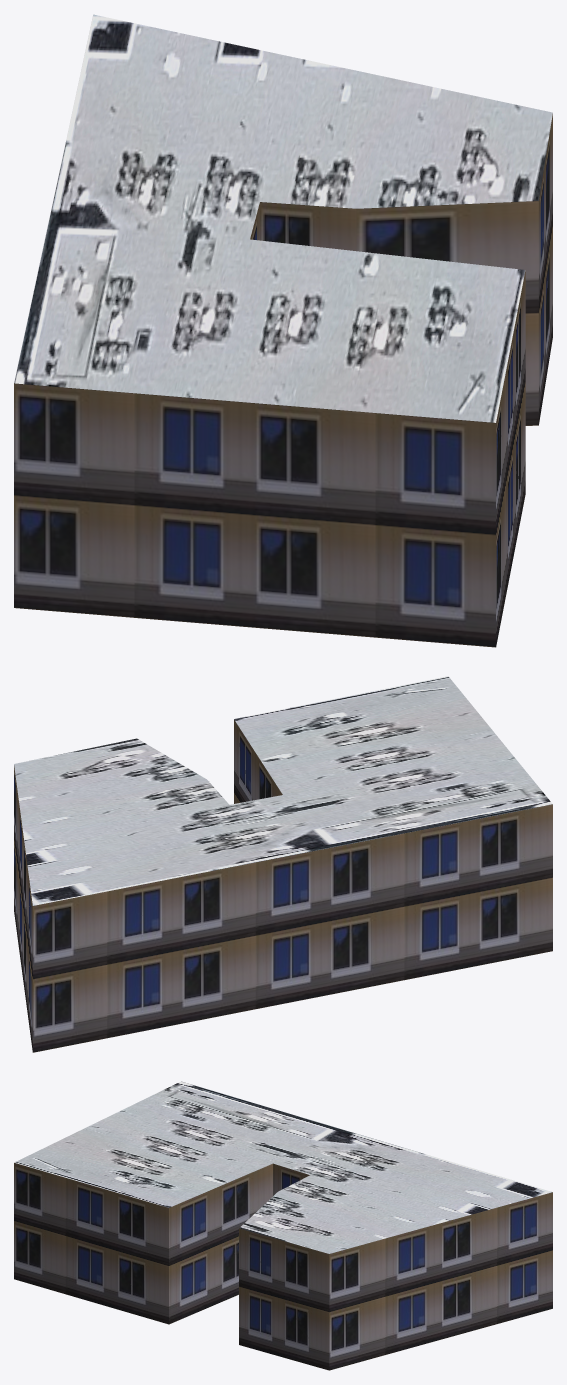
File: ResTex__5245.fbx
The picture shows the model from 3 angles, top to bottom: view 1: azimuth 30°, elevation 25°; view 2: azimuth 150°, elevation 25°; view 3: azimuth 270°, elevation 25°; orthographic projection. The views are drawn at different scales.
Visible parts, largest first — view 1: CityEngineMaterial_m, CityEngineMaterial_5_m; view 2: CityEngineMaterial_5_m, CityEngineMaterial_m; view 3: CityEngineMaterial_5_m, CityEngineMaterial_m.
Boxes of the visible parts, box(x1,y1,x2,y2) form: CityEngineMaterial_m: box(14, 14, 552, 422); CityEngineMaterial_5_m: box(14, 114, 552, 647); CityEngineMaterial_5_m: box(14, 720, 552, 1052); CityEngineMaterial_m: box(14, 676, 552, 905); CityEngineMaterial_5_m: box(14, 1163, 552, 1370); CityEngineMaterial_m: box(14, 1081, 552, 1253).
Bounding box in the file's own units: 19.06 × 6 × 25.14.
2 materials, 2 textured.
